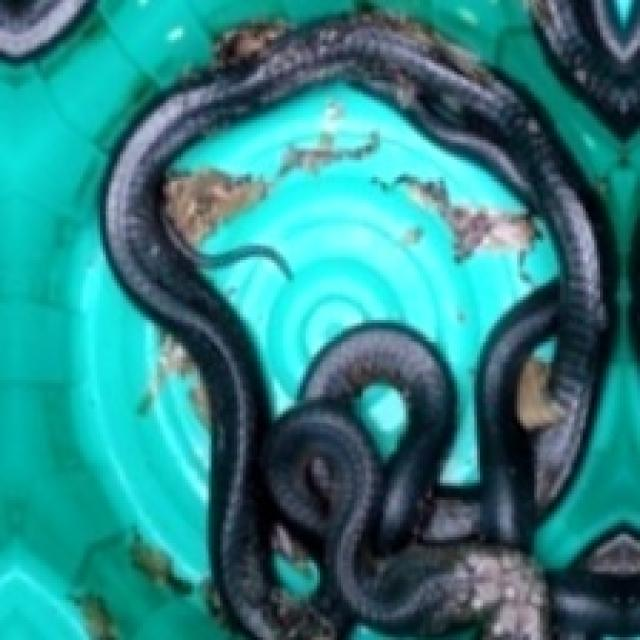king cobra: (103, 14, 611, 637)
